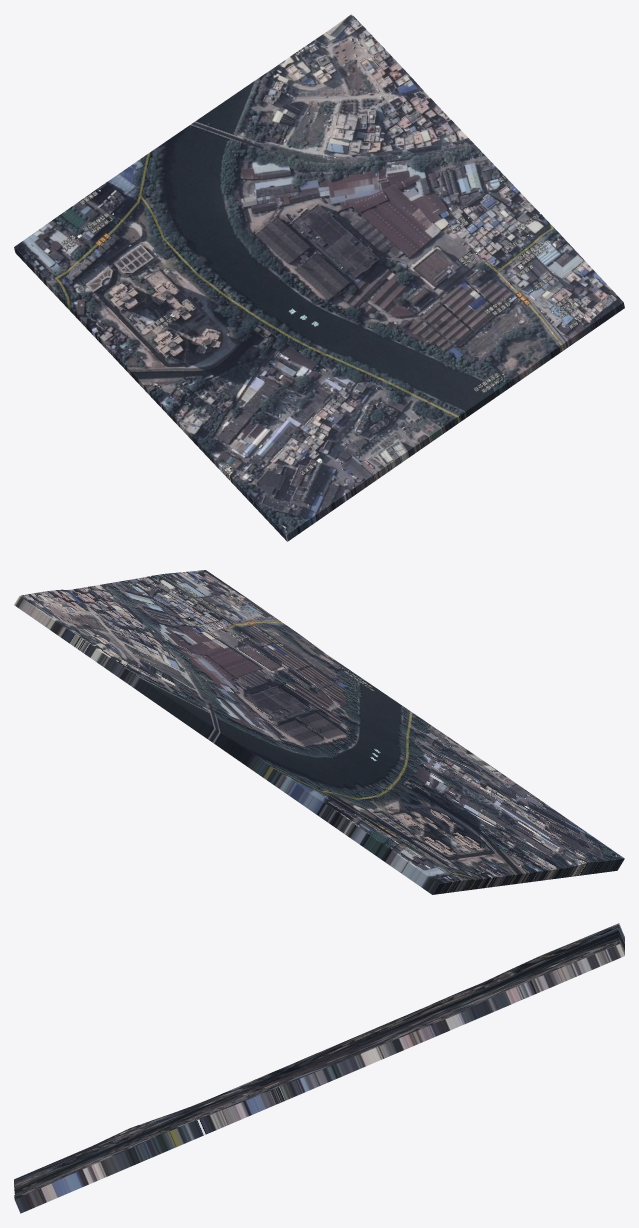
3 renders of one model, top to bottom at view 1: azimuth 30°, elevation 25°; view 2: azimuth 150°, elevation 25°; view 3: azimuth 270°, elevation 25°, orthographic. The views are drawn at different scales.
Parts seen in each view (by area): view 1: 0_15_3; view 2: 0_15_3; view 3: 0_15_3.
Boxes of the visible parts, bbox=[...] form: 0_15_3: bbox=[14, 14, 624, 541]; 0_15_3: bbox=[14, 570, 624, 894]; 0_15_3: bbox=[14, 923, 624, 1213].
Size of the model in its own units: 597 by 437 by 548.
Materials: 1 (1 with a texture image).
